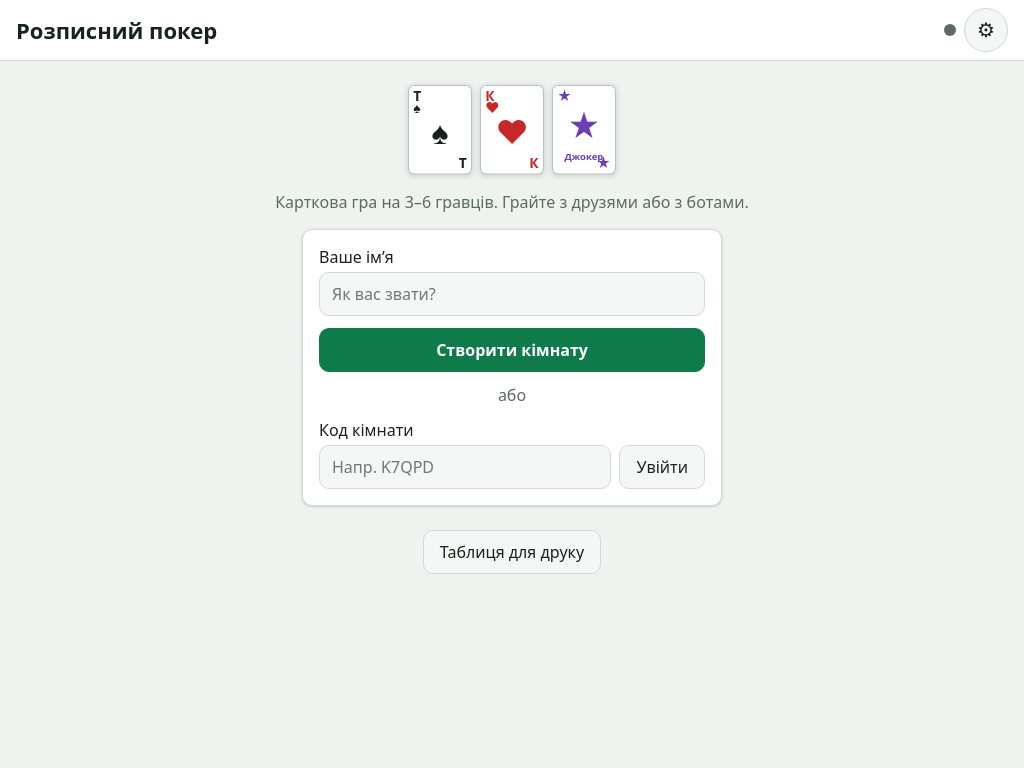
Test case: меню налаштувань у шапці › у шапці лише назва, звʼязок і ⚙; вібрація, звук і тема — за ⚙
The image size is (1024, 768).
Expected: the button "Вібрація на свій хід" is not shown
Expected: the button "Темна тема" is not shown
Click the button named "Налаштування" at (986, 30), box [964, 8, 1008, 52]
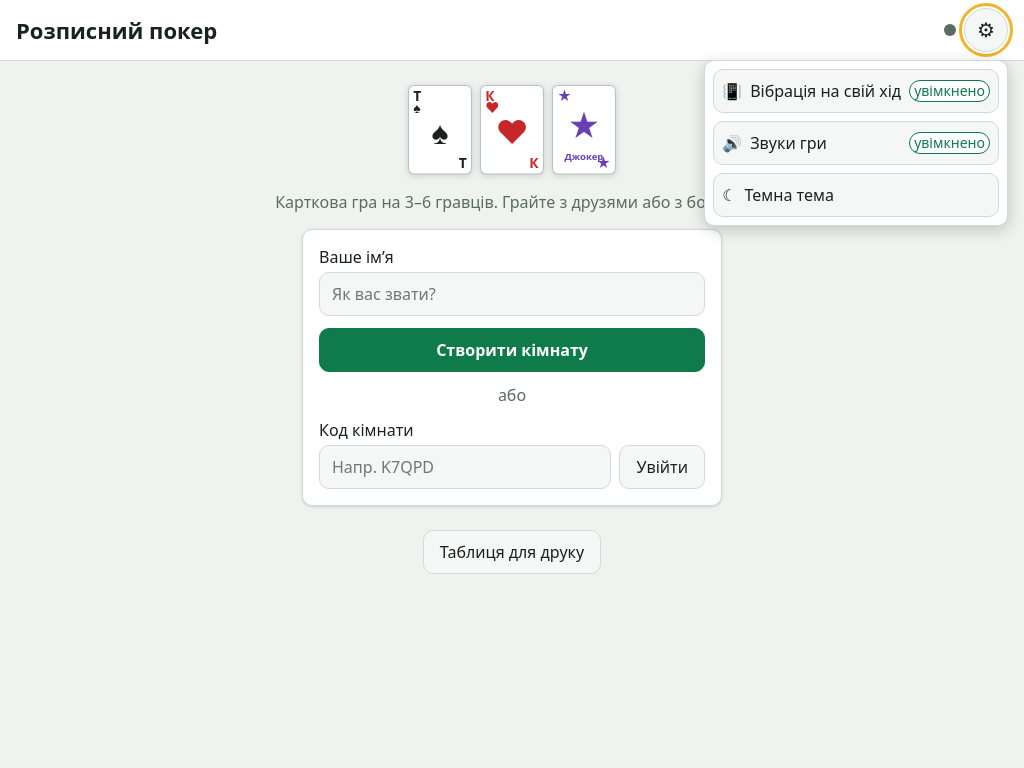
Now the button named "Налаштування" is expanded, box [964, 8, 1008, 52]
Now the element named "Налаштування" shows "Вібрація на свій хід", box [713, 69, 999, 113]
